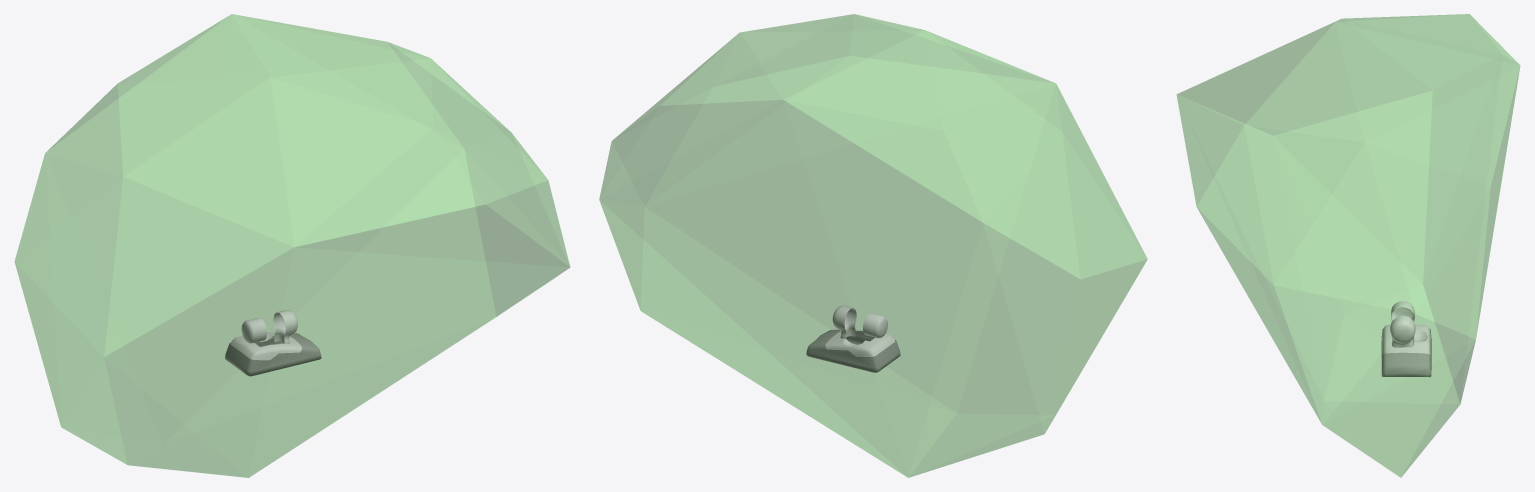
The model's file is LLEG_LINK5_Kinematics.dae.
3 renders of one model, left to right at view 1: azimuth 30°, elevation 25°; view 2: azimuth 150°, elevation 25°; view 3: azimuth 270°, elevation 25°, orthographic. The views are drawn at different scales.
Visible parts, largest first — view 1: foo_002, ShapeIndexedFaceS_022, ShapeIndexedFaceS_019, ShapeIndexedFaceS_020; view 2: foo_002, ShapeIndexedFaceS_022, ShapeIndexedFaceS_019, ShapeIndexedFaceS_020; view 3: foo_002, ShapeIndexedFaceS_022, ShapeIndexedFaceS_019, ShapeIndexedFaceS_020.
Part boxes in pixels (box(x1,y1,x2,y2)): foo_002: box(14, 14, 570, 477); ShapeIndexedFaceS_022: box(225, 333, 321, 376); ShapeIndexedFaceS_019: box(230, 332, 301, 360); ShapeIndexedFaceS_020: box(273, 310, 297, 343); foo_002: box(599, 14, 1147, 477); ShapeIndexedFaceS_022: box(806, 329, 900, 372); ShapeIndexedFaceS_019: box(825, 330, 895, 356); ShapeIndexedFaceS_020: box(832, 305, 856, 338); foo_002: box(1176, 14, 1520, 477); ShapeIndexedFaceS_022: box(1381, 328, 1431, 376); ShapeIndexedFaceS_019: box(1382, 324, 1430, 354); ShapeIndexedFaceS_020: box(1390, 315, 1415, 347).
Size of the model in its own units: 1.6 by 0.944 by 1.22.
